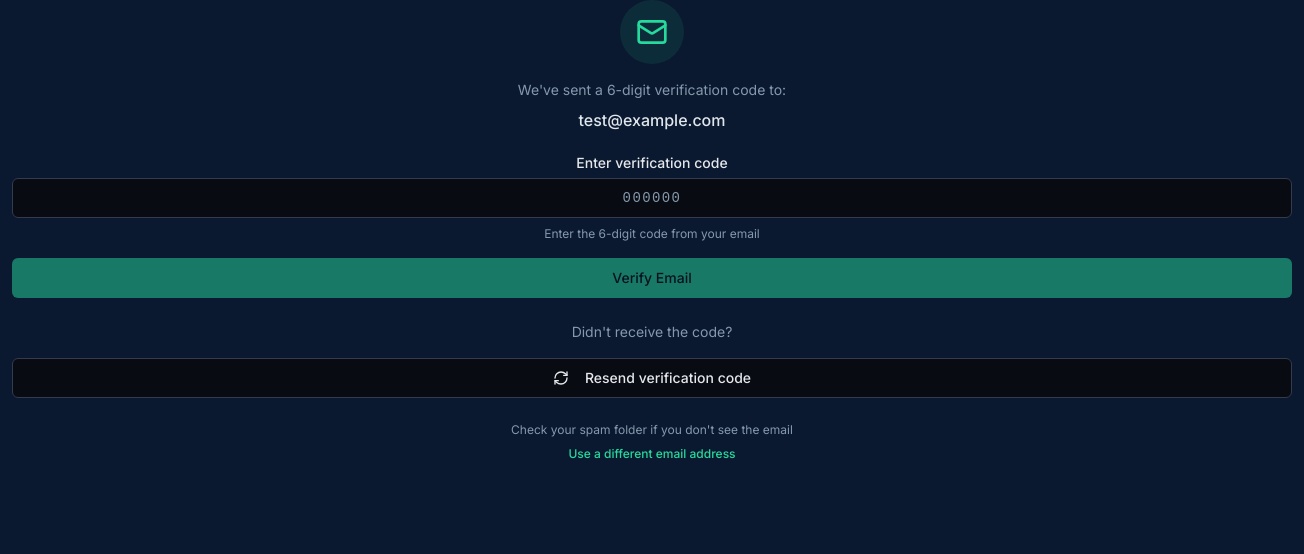
Test: EmailVerificationForm › Error Handling › should handle invalid verification code error
Type "123456" into the field labelled "Enter verification code".
click(652, 198); type("123456")  # box [12,178,1292,218]
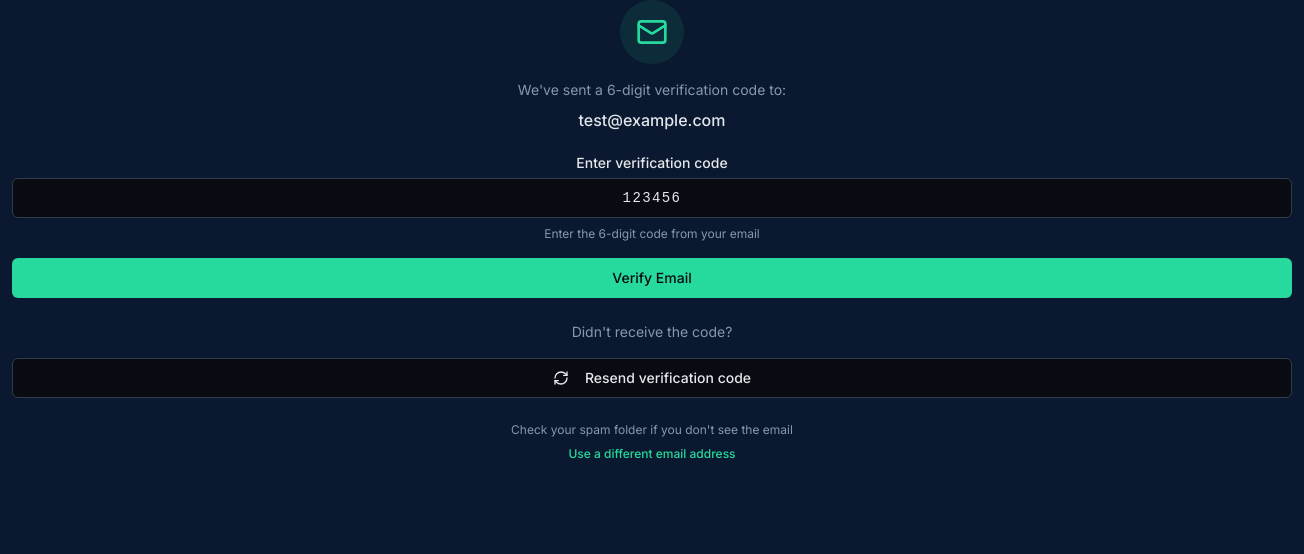
Click the button "Verify Email".
click(652, 278)  # box [12,258,1292,298]
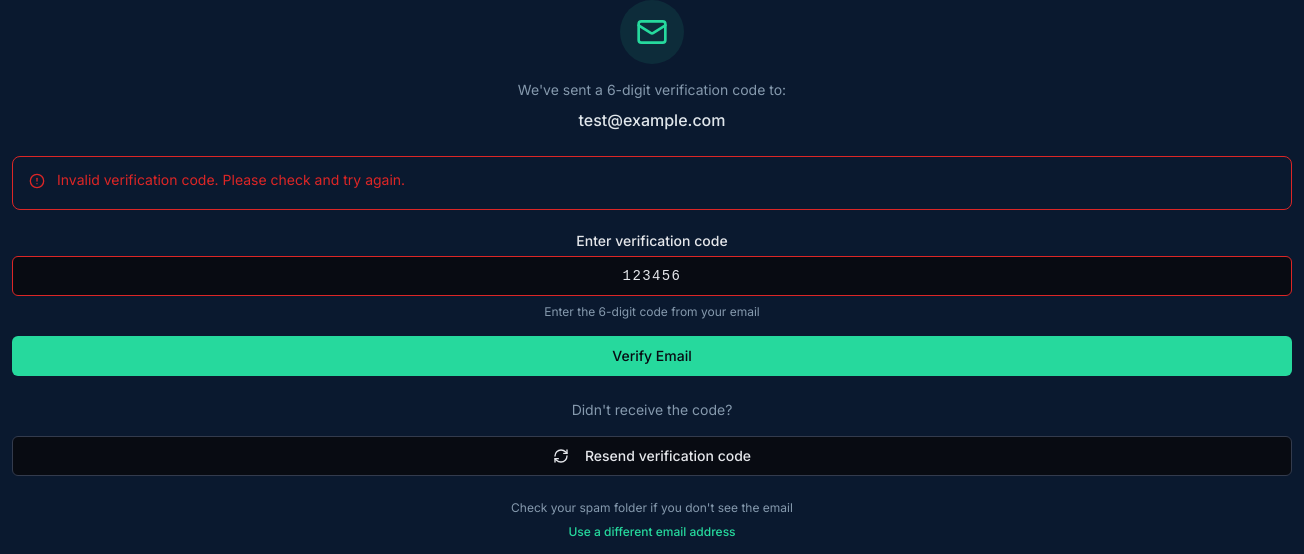
Expected: the text "Invalid verification code. Please check and try again." is shown, [57,171,405,188]
